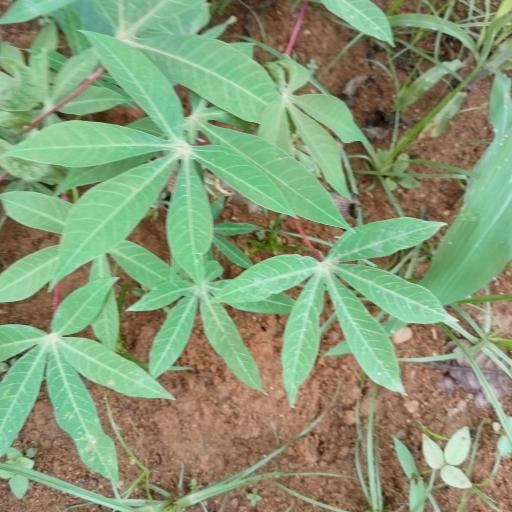Cassava_Mosaic: (225, 218, 453, 392), (0, 276, 156, 473)
